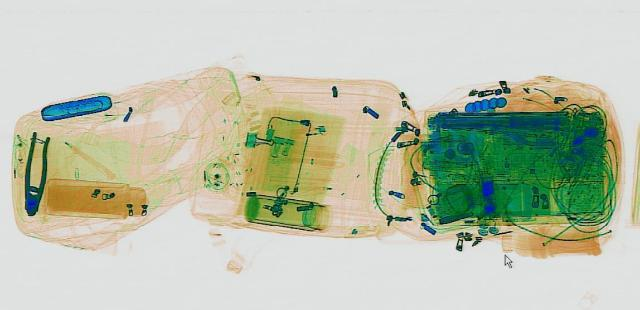Pliers: (17, 130, 53, 214)
